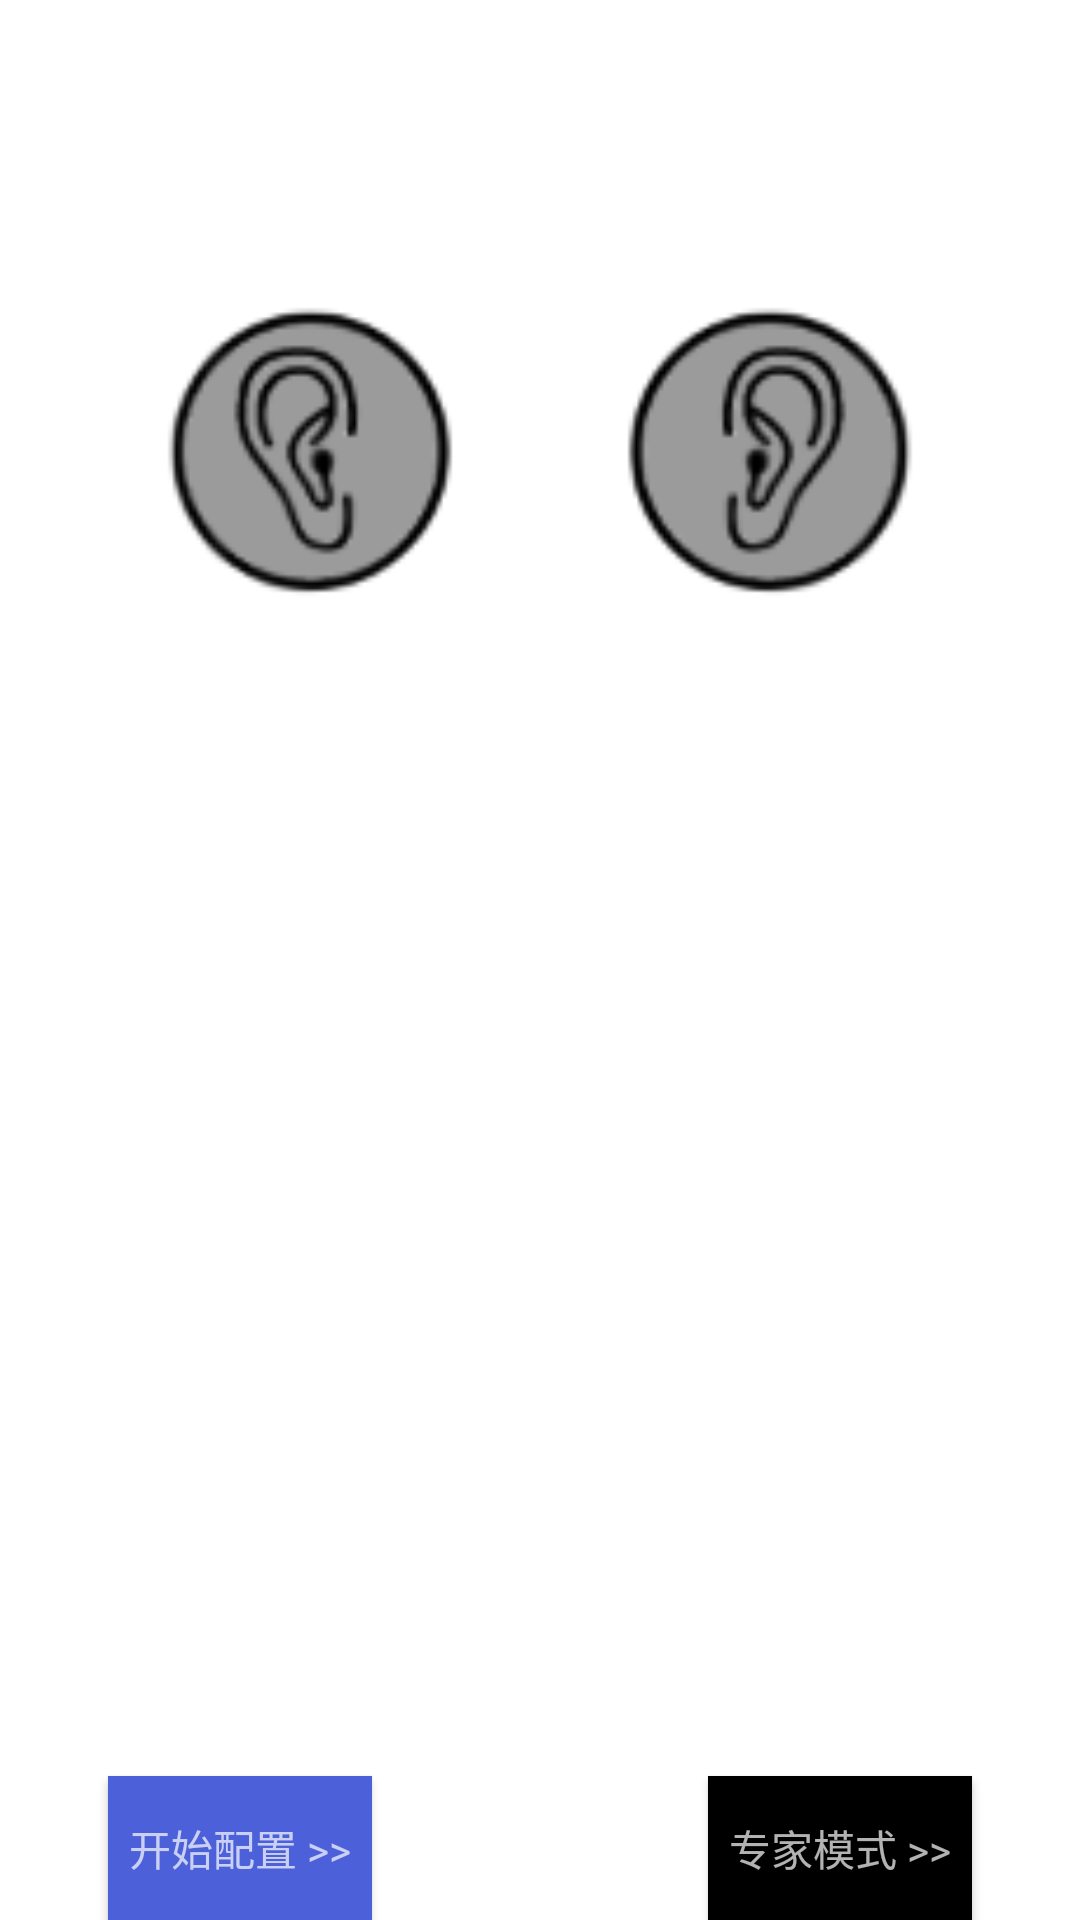

Named icons in this screenshot (1080×1920) and their centers, [x,y]:
ear: [310,451], [769,451]
